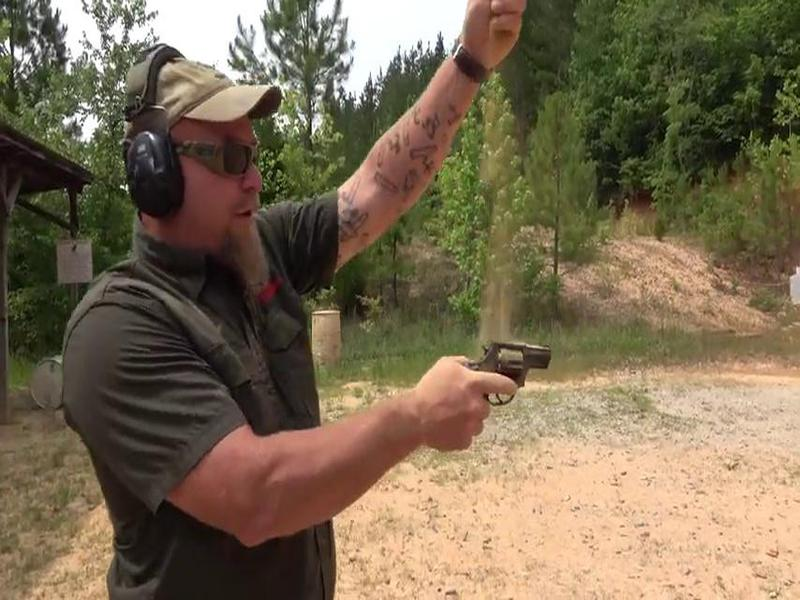Revolver: (427, 296, 568, 443)
